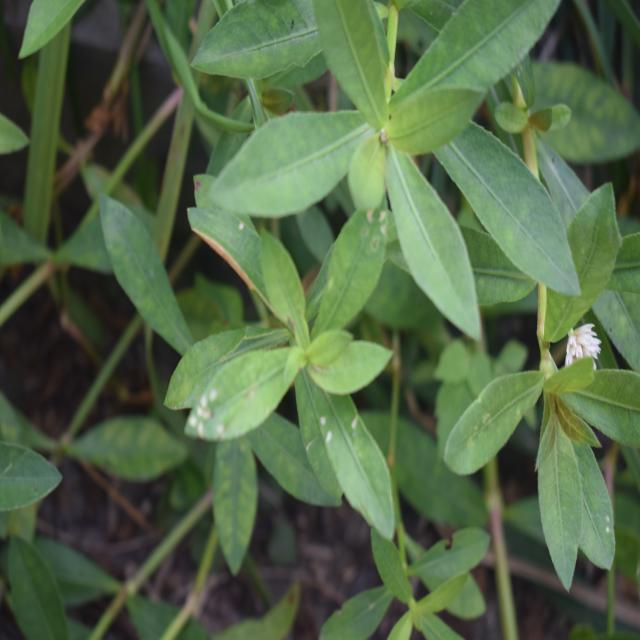Alligatorweed: (199, 1, 578, 343), (192, 196, 423, 554)
